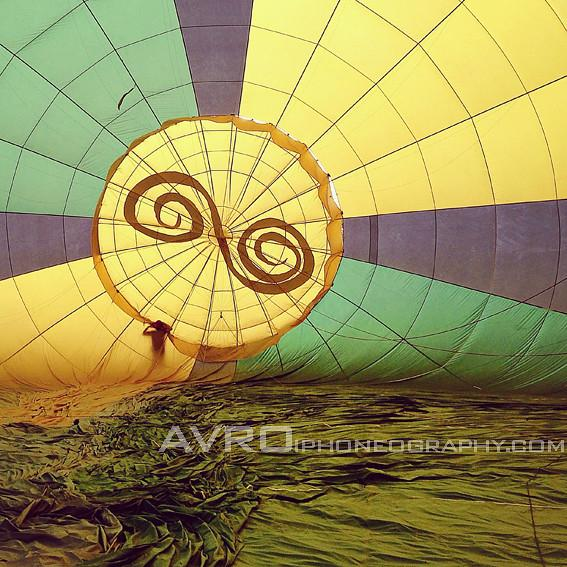balloon: (90, 113, 345, 364)
